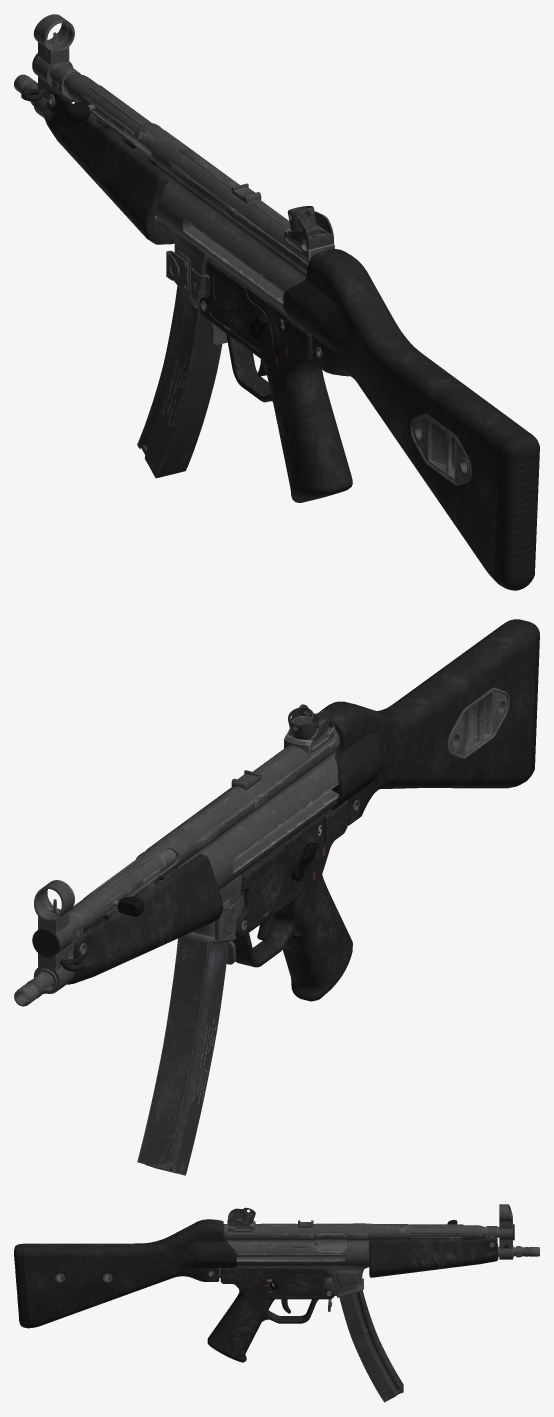
3 views of the same model, one above another, from view 1: azimuth 30°, elevation 25°; view 2: azimuth 150°, elevation 25°; view 3: azimuth 270°, elevation 25° (orthographic). The views are drawn at different scales.
Parts seen in each view (by area): view 1: Buttstock, HandGuard, Reciever, Body, Attachements; view 2: Buttstock, HandGuard, Reciever, Body, Attachements; view 3: Buttstock, HandGuard, Body, Reciever, Attachements.
Boxes of the visible parts, left/top/right/bottom form: Buttstock: left=283, top=249, right=539, bottom=590; HandGuard: left=44, top=87, right=352, bottom=502; Reciever: left=33, top=14, right=222, bottom=478; Body: left=153, top=137, right=334, bottom=313; Attachements: left=14, top=53, right=472, bottom=485; Buttstock: left=320, top=619, right=539, bottom=825; HandGuard: left=67, top=801, right=352, bottom=1001; Reciever: left=33, top=839, right=228, bottom=1175; Body: left=158, top=721, right=339, bottom=943; Attachements: left=14, top=687, right=509, bottom=1006; Buttstock: left=14, top=1219, right=236, bottom=1328; HandGuard: left=207, top=1237, right=498, bottom=1362; Body: left=223, top=1217, right=387, bottom=1297; Reciever: left=339, top=1204, right=512, bottom=1402; Attachements: left=55, top=1207, right=539, bottom=1313.
Bounding box in the file's own units: 0.0811 × 0.3658 × 0.901.
Materials: 5 (5 with a texture image).
